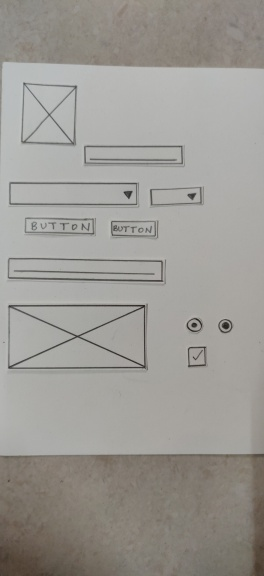button: (22, 215, 98, 239), (109, 219, 157, 241)
checkbox: (186, 344, 209, 369)
dropdown: (5, 179, 143, 210), (147, 186, 206, 209)
img: (5, 300, 150, 373), (19, 81, 79, 150)
radio: (186, 315, 203, 334), (216, 318, 234, 335)
text: (5, 256, 167, 287), (83, 143, 185, 168)
